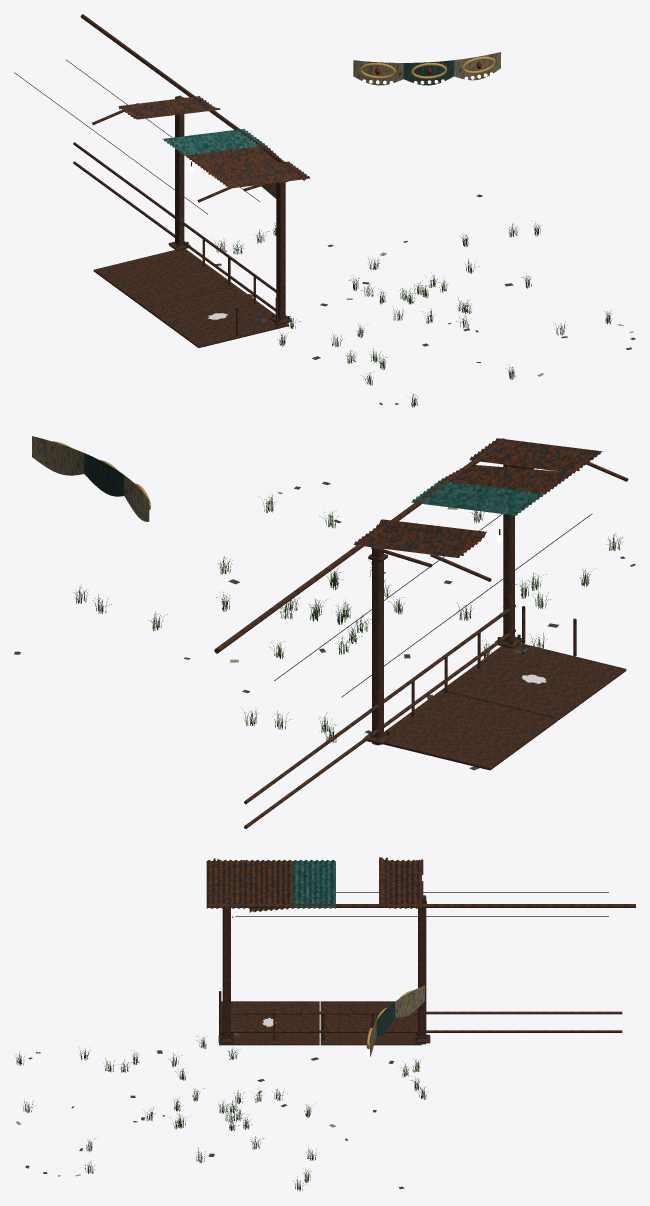
The model's file is SM_Env_Tile_m1_p1.fbx.
The picture shows the model from 3 angles, top to bottom: view 1: azimuth 30°, elevation 25°; view 2: azimuth 150°, elevation 25°; view 3: azimuth 270°, elevation 25°; orthographic projection. The views are drawn at different scales.
Parts seen in each view (by area): view 1: SM_Env_Tile_m1_p1; view 2: SM_Env_Tile_m1_p1; view 3: SM_Env_Tile_m1_p1.
Part boxes in pixels (x1,y1,x2,y2): SM_Env_Tile_m1_p1: (14,14,635,407); SM_Env_Tile_m1_p1: (14,436,635,828); SM_Env_Tile_m1_p1: (15,857,635,1191).
Size of what is drawn, in the model's own units: 1267 by 1832 by 539.
Materials: 12 (8 with a texture image).
